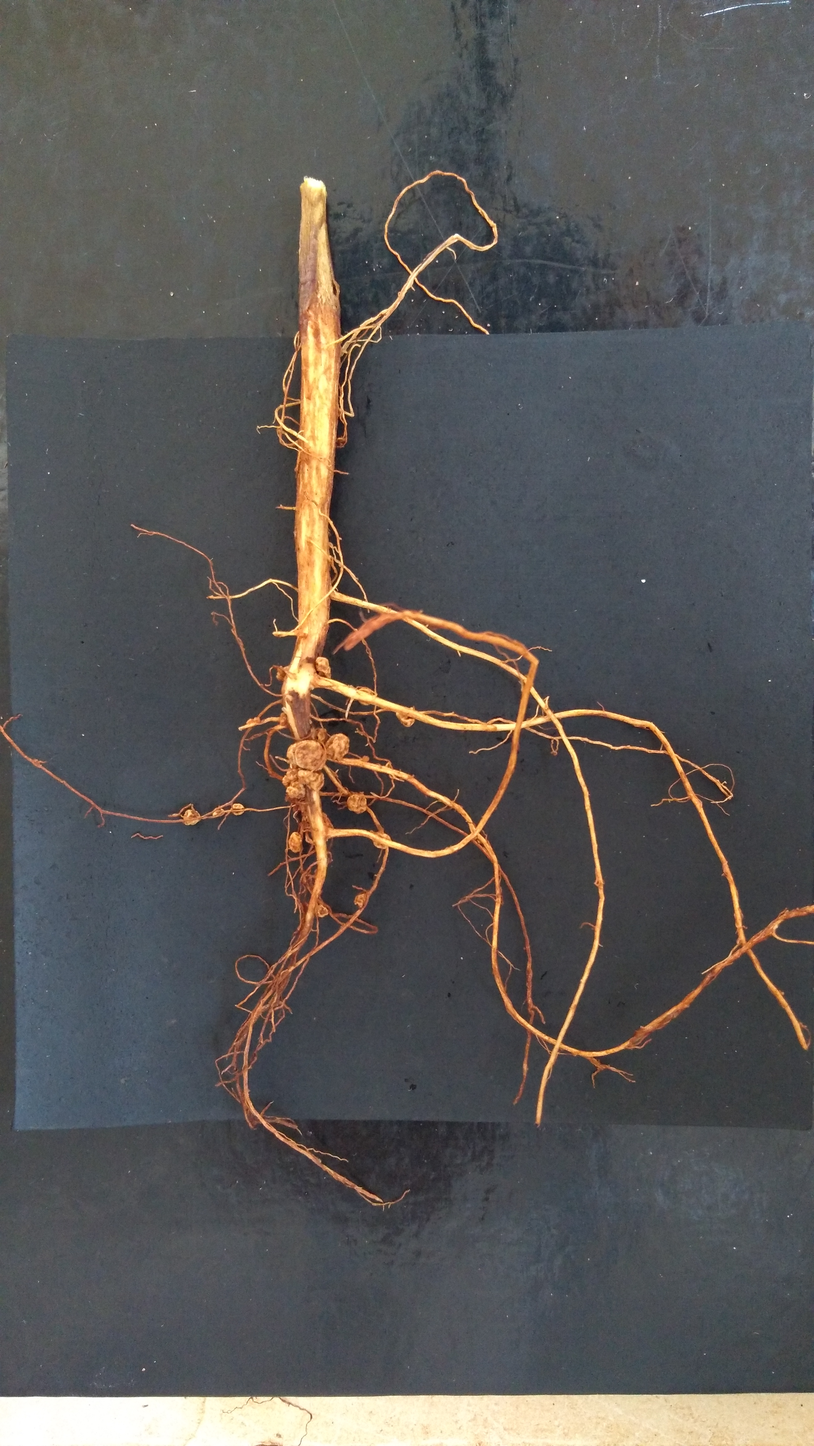nodule: (285, 738, 329, 772), (298, 811, 336, 846), (324, 732, 351, 762), (296, 768, 326, 792), (312, 655, 336, 681), (345, 791, 368, 815), (395, 708, 417, 728), (283, 780, 306, 799), (287, 829, 304, 854), (371, 830, 392, 850), (280, 768, 300, 788), (183, 808, 203, 827), (356, 687, 374, 708), (313, 903, 329, 920), (274, 666, 290, 683), (353, 892, 368, 910), (230, 802, 246, 817), (279, 711, 289, 728), (211, 808, 226, 818), (359, 754, 372, 763), (252, 716, 262, 724), (245, 717, 255, 725)
